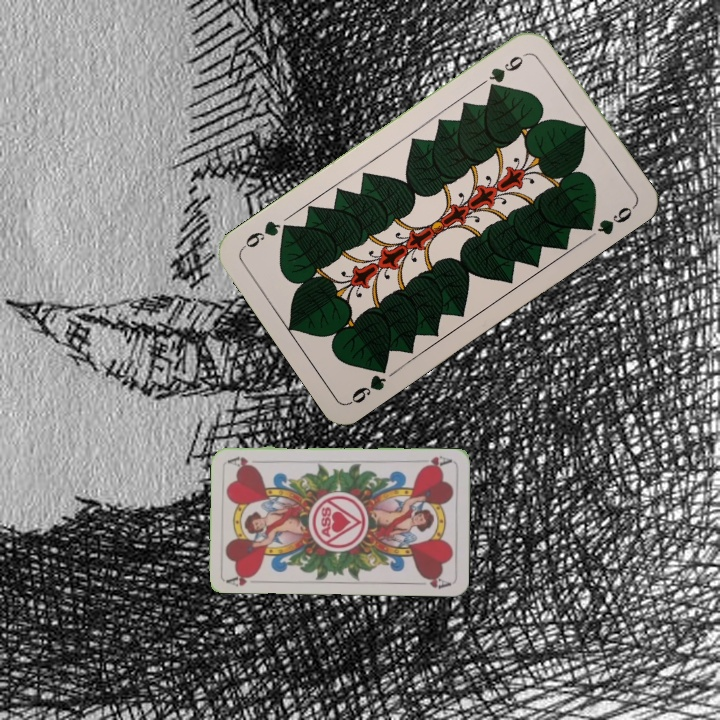G9: (346, 358, 391, 407), (484, 49, 530, 93)
HA: (224, 569, 264, 589), (416, 452, 454, 471)
